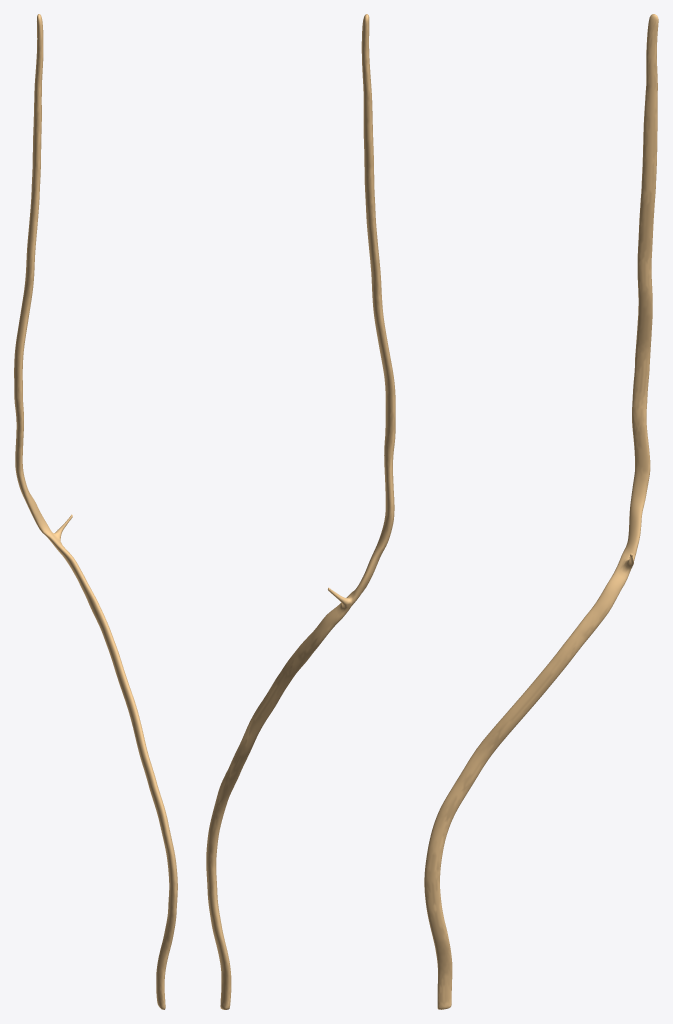
File: N_musculocutaneous.glb
The picture shows the model from 3 angles, left to right: view 1: azimuth 30°, elevation 25°; view 2: azimuth 210°, elevation 25°; view 3: azimuth 270°, elevation 25°; orthographic projection. The views are drawn at different scales.
Visible parts, largest first — view 1: N_musculocutaneous_L.obj; view 2: N_musculocutaneous_L.obj; view 3: N_musculocutaneous_L.obj.
Boxes of the visible parts, x1=… form: N_musculocutaneous_L.obj: x1=14, y1=14, x2=177, y2=1009; N_musculocutaneous_L.obj: x1=206, y1=14, x2=395, y2=1009; N_musculocutaneous_L.obj: x1=424, y1=14, x2=658, y2=1009.
Bounding box in the file's own units: 0.00072 × 0.00999 × 0.00216.
